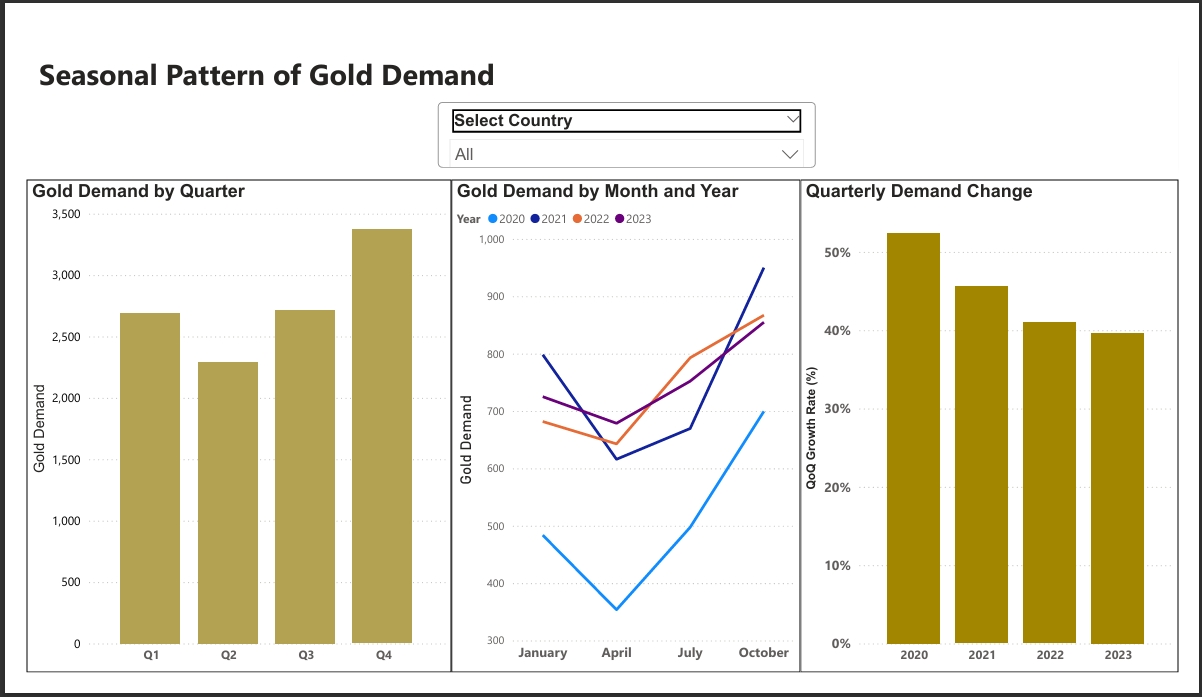

This screenshot's page, from the dashboard's own definition file:
{"tool":"powerbi","page":{"name":"Seasonal Pattern","canvas":[1280,720],"ordinal":2},"visuals":[{"type":"textbox","box":[9.5,28.4,1270.5,116.7],"z":0},{"type":"clusteredColumnChart","title":"Quarterly Demand Change","fields":{"Category":["gold_demand_clean.Date.Variation.Date Hierarchy.Year","gold_demand_clean.Date.Variation.Date Hierarchy.Quarter","gold_demand_clean.Date.Variation.Date Hierarchy.Month","gold_demand_clean.Date.Variation.Date Hierarchy.Day"],"Y":["gold_demand_clean.QoQ Growth %"]},"box":[860,173.3,420,546.7],"z":1000},{"type":"slicer","fields":{"Values":["gold_demand_clean.Country"]},"box":[456.7,86.7,420,73.3],"z":2000},{"type":"clusteredColumnChart","title":"Gold Demand by Quarter","fields":{"Category":["gold_demand_clean.Q"],"Y":["gold_demand_clean.Country Demand"]},"box":[0,173.3,471.7,546.7],"z":3000},{"type":"lineChart","title":"Gold Demand by Month and Year","fields":{"Y":["gold_demand_clean.Country Demand"],"Category":["gold_demand_clean.Date.Variation.Date Hierarchy.Month"],"Series":["gold_demand_clean.Date.Variation.Date Hierarchy.Year"]},"box":[471.7,173.3,388.3,546.7],"z":4000}]}

Visuals, with their boxes in screenshot pixels (x1, y1, x2, y2), scaled from the page's 1280x720 canvas onto the 1202x697 screenshot:
textbox: [9,27,1201,140]
"Quarterly Demand Change" clusteredColumnChart: [808,168,1201,696]
slicer - gold_demand_clean.Country: [429,84,823,155]
"Gold Demand by Quarter" clusteredColumnChart: [0,168,443,696]
"Gold Demand by Month and Year" lineChart: [443,168,808,696]
